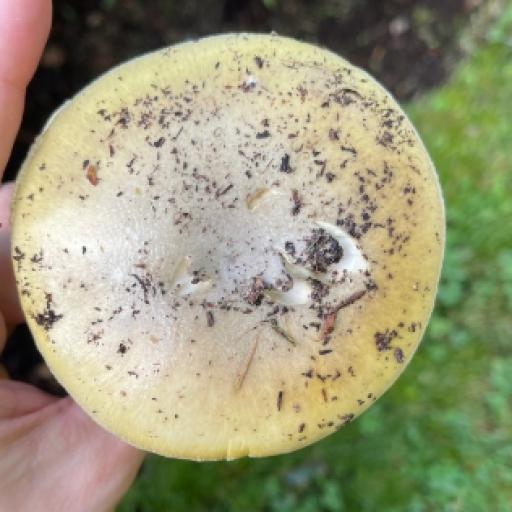mushroom: (0, 0, 488, 501)
